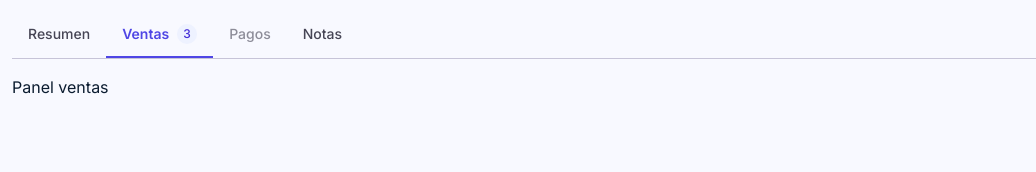
Scenario: Tabs › modo no controlado › arranca en defaultValue y cambia al hacer clic
Expected: the panel reads "Panel ventas", [12,77,109,97]
Click the tab "Notas" at (322, 35), box [287,12,358,58]
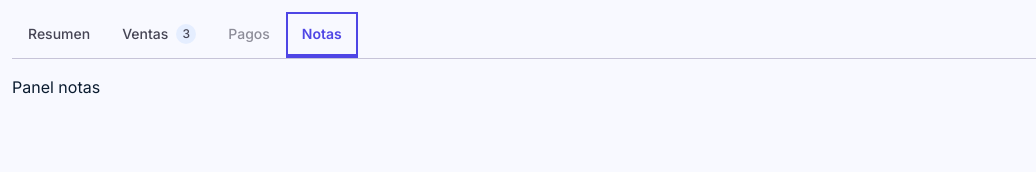
Result: the panel reads "Panel notas" at [12,77,100,97]
